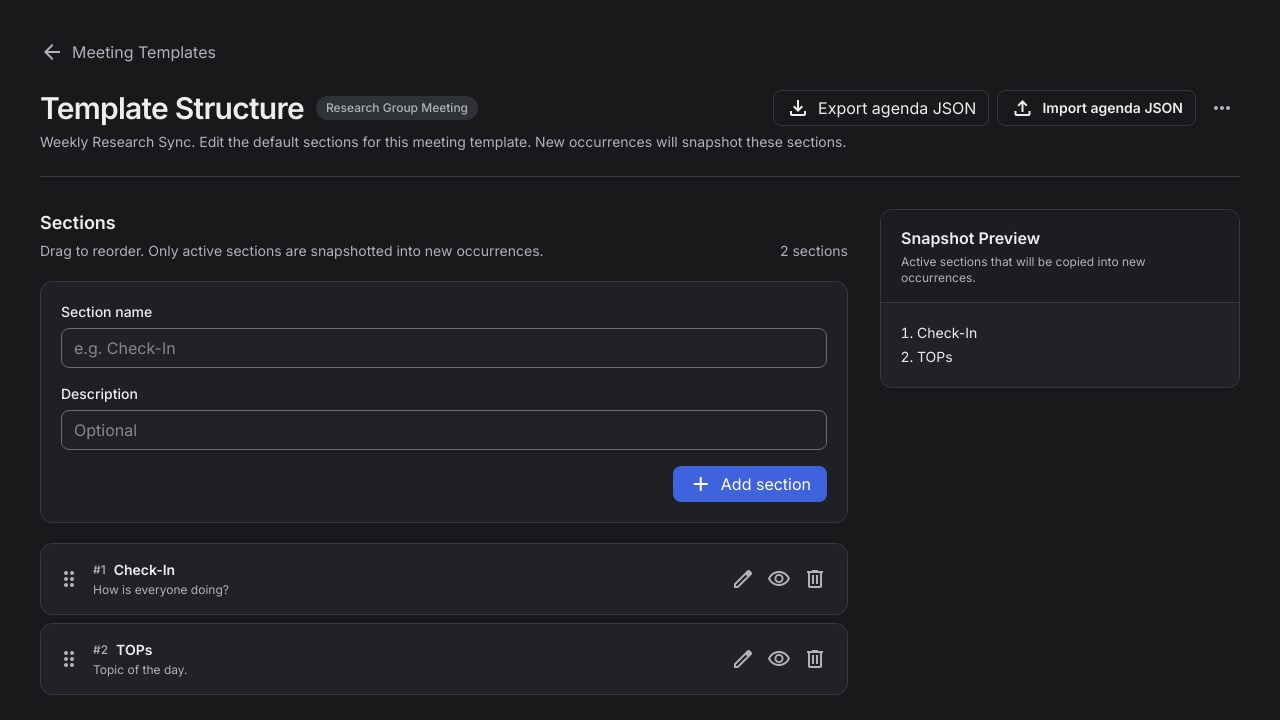
Test: MeetingSeriesDetailPage section deletion › a successful deletion refreshes the list and the Snapshot Preview
Expected: the heading "Template Structure" is shown, [40,90,304,126]
Click the button named "Delete section TOPs" at (815, 659), box [799,643,831,675]
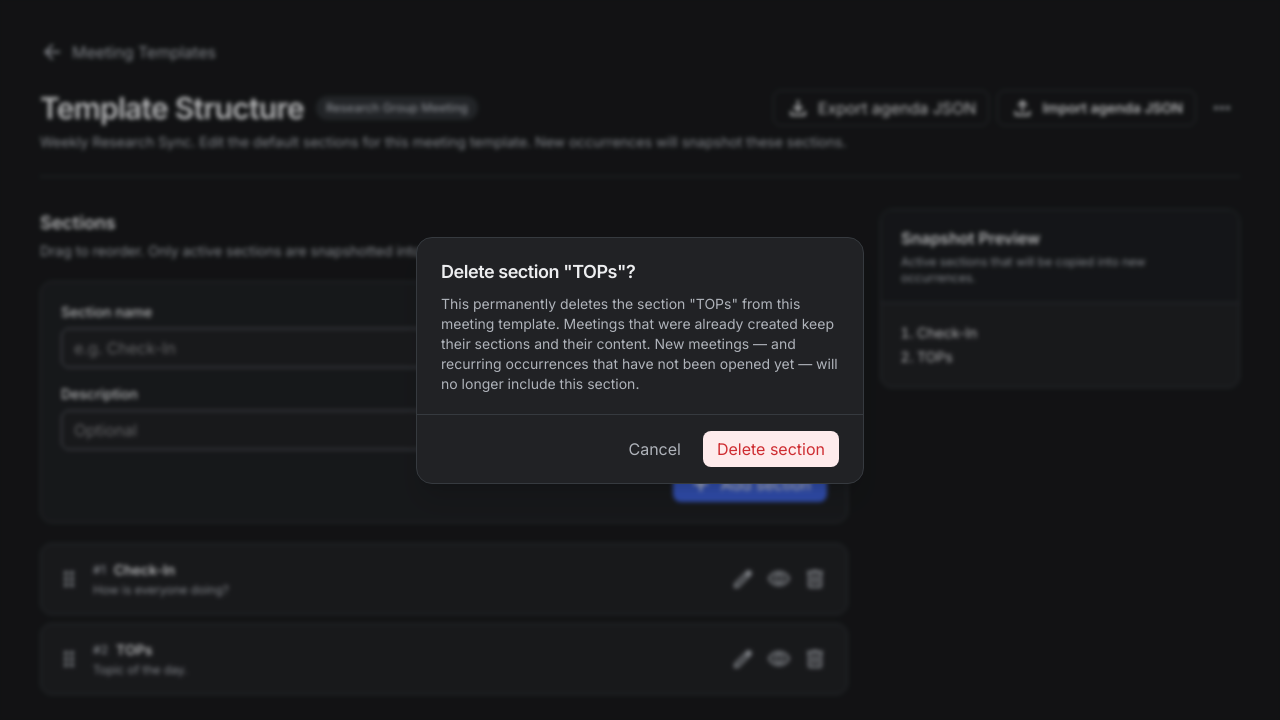
Click the button "Delete section" at (771, 448), box [703,430,839,466]
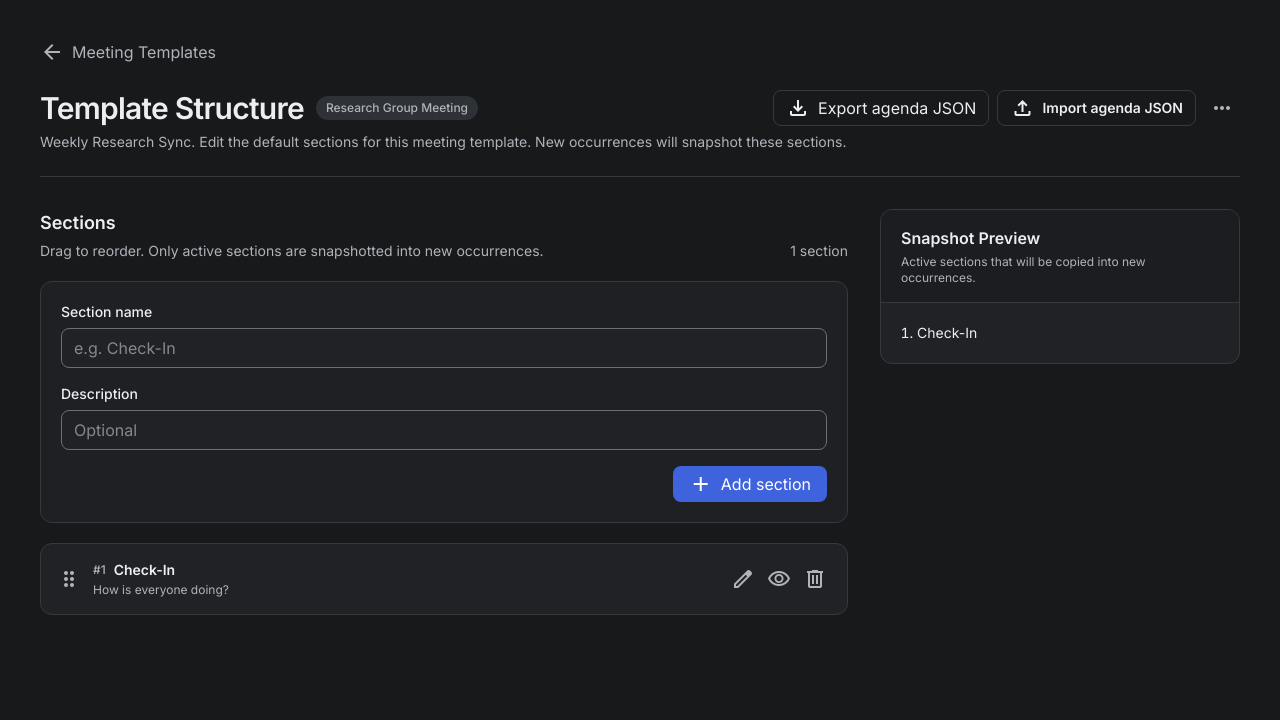
Expected: the button named "Delete section Check-In" is shown, [799,563,831,595]
Expected: the heading "Delete section \"TOPs\"?" is gone
Expected: the text "TOPs" is not shown
